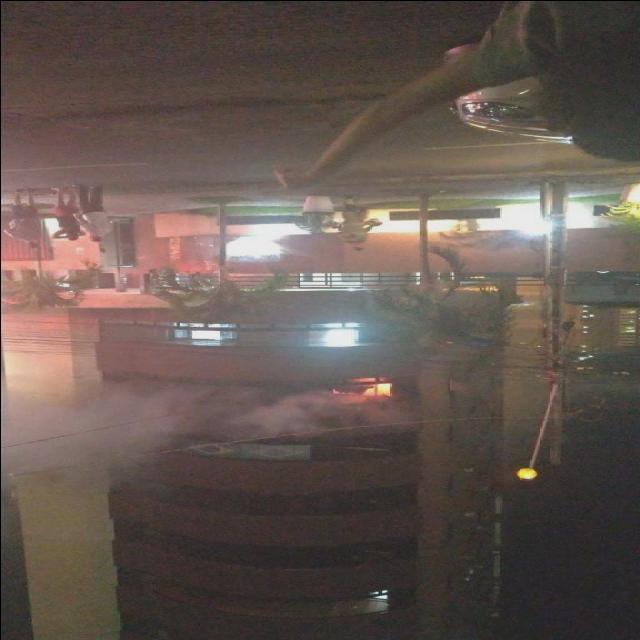Fire: (359, 382, 397, 398)
